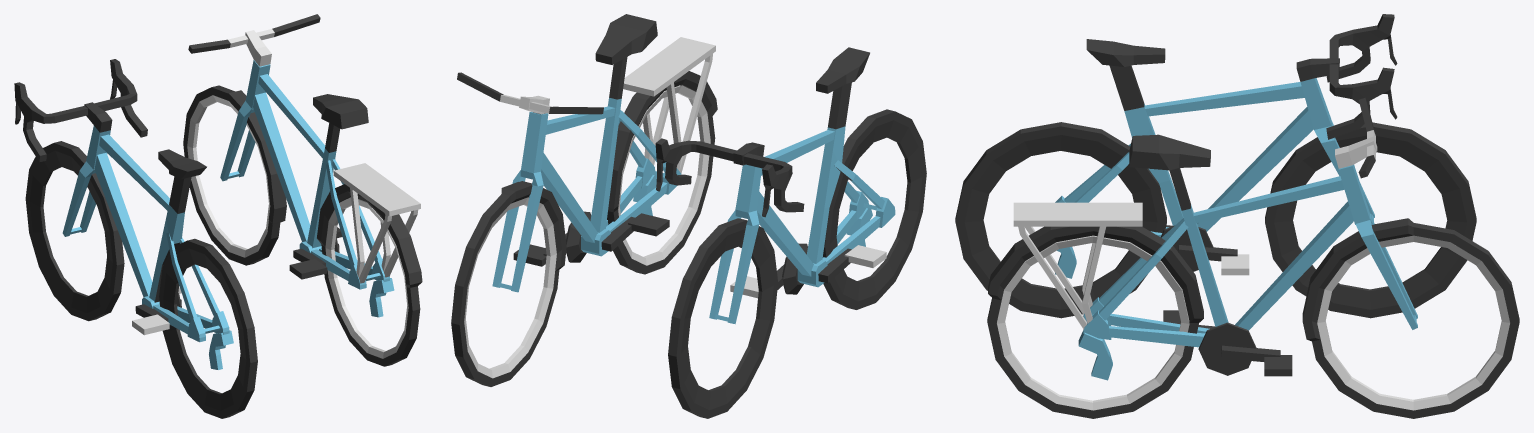
File: bicycles.fbx
3 renders of one model, left to right at view 1: azimuth 30°, elevation 25°; view 2: azimuth 150°, elevation 25°; view 3: azimuth 270°, elevation 25°, orthographic. The views are drawn at different scales.
Parts seen in each view (by area): view 1: bike_road_frame_Cube.038, bike_commuter_frame_Cube.006, bike_road_steerer_Cube.014, front.001, pannier_rack.001_Cube.019, tyres_rear_fender.001_Cube.020, tyres_front_fender.001_Cube.021, cranks.001_Cube.016, bike_road_cranks_Cube.040; view 2: bike_road_frame_Cube.038, bike_road_steerer_Cube.014, bike_commuter_frame_Cube.006, front.001, tyres_front_fender.001_Cube.021, pannier_rack.001_Cube.019, tyres_rear_fender.001_Cube.020, bike_road_cranks_Cube.040, cranks.001_Cube.016; view 3: bike_road_frame_Cube.038, bike_commuter_frame_Cube.006, bike_road_steerer_Cube.014, front.001, tyres_rear_fender.001_Cube.020, tyres_front_fender.001_Cube.021, pannier_rack.001_Cube.019, cranks.001_Cube.016, bike_road_cranks_Cube.040.
Part boxes in pixels (box(x1,y1,x2,y2)): bike_road_frame_Cube.038: box(86, 125, 257, 418); bike_commuter_frame_Cube.006: box(245, 60, 408, 358); bike_road_steerer_Cube.014: box(14, 59, 147, 321); front.001: box(187, 14, 320, 257); pannier_rack.001_Cube.019: box(333, 163, 420, 283); tyres_rear_fender.001_Cube.020: box(317, 184, 422, 366); tyres_front_fender.001_Cube.021: box(183, 85, 286, 265); cranks.001_Cube.016: box(289, 227, 342, 279); bike_road_cranks_Cube.040: box(132, 286, 181, 335); bike_road_frame_Cube.038: box(735, 47, 926, 309); bike_road_steerer_Cube.014: box(655, 138, 804, 418); bike_commuter_frame_Cube.006: box(521, 14, 710, 265); front.001: box(457, 72, 603, 378); tyres_front_fender.001_Cube.021: box(451, 181, 566, 386); pannier_rack.001_Cube.019: box(623, 37, 715, 173); tyres_rear_fender.001_Cube.020: box(607, 71, 717, 274); bike_road_cranks_Cube.040: box(730, 243, 886, 298); cranks.001_Cube.016: box(513, 211, 669, 266); bike_road_frame_Cube.038: box(955, 39, 1331, 318); bike_commuter_frame_Cube.006: box(997, 134, 1369, 410); bike_road_steerer_Cube.014: box(1265, 14, 1476, 318); front.001: box(1317, 98, 1509, 410); tyres_rear_fender.001_Cube.020: box(987, 226, 1203, 418); tyres_front_fender.001_Cube.021: box(1302, 218, 1519, 418); pannier_rack.001_Cube.019: box(1013, 202, 1142, 329); cranks.001_Cube.016: box(1163, 310, 1292, 376); bike_road_cranks_Cube.040: box(1161, 225, 1249, 275).
Bounding box in the file's own units: 127 × 101 × 182.
